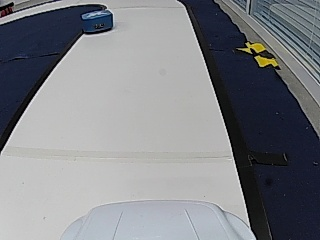prop: (82, 10, 112, 34)
